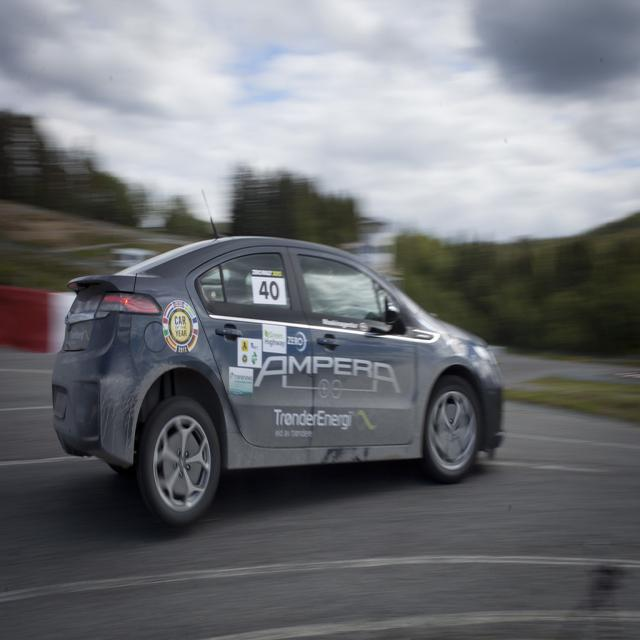car: (41, 232, 524, 520)
